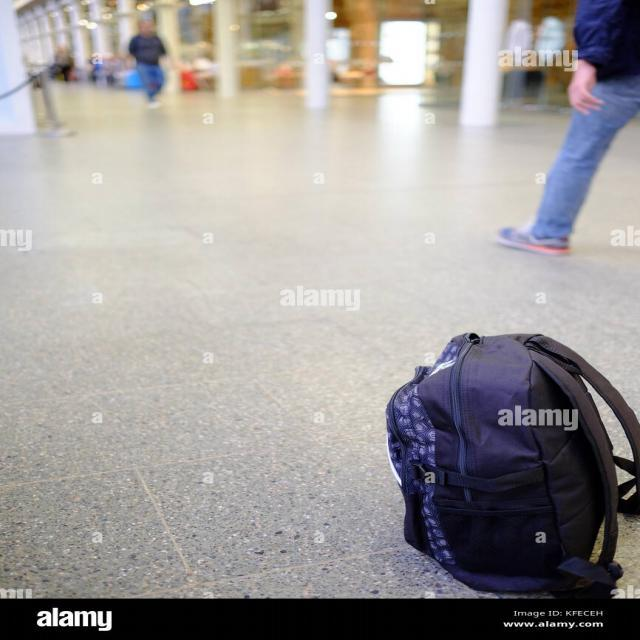Backpacks: (381, 326, 640, 600)
